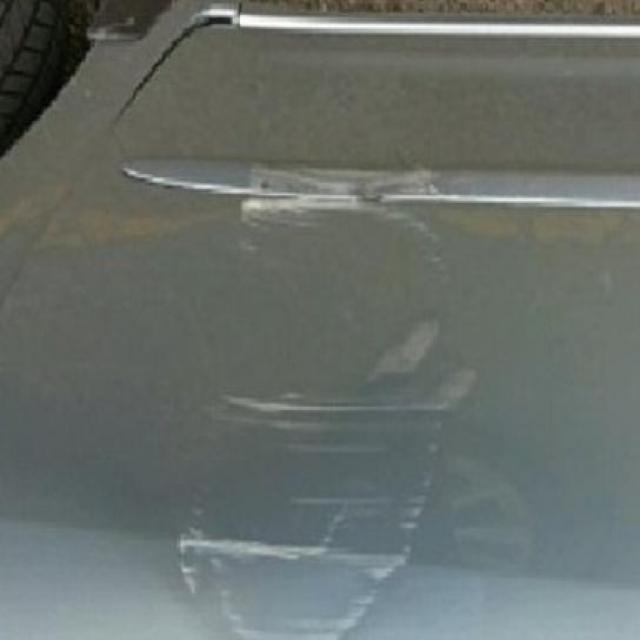scratch: (192, 138, 484, 635)
